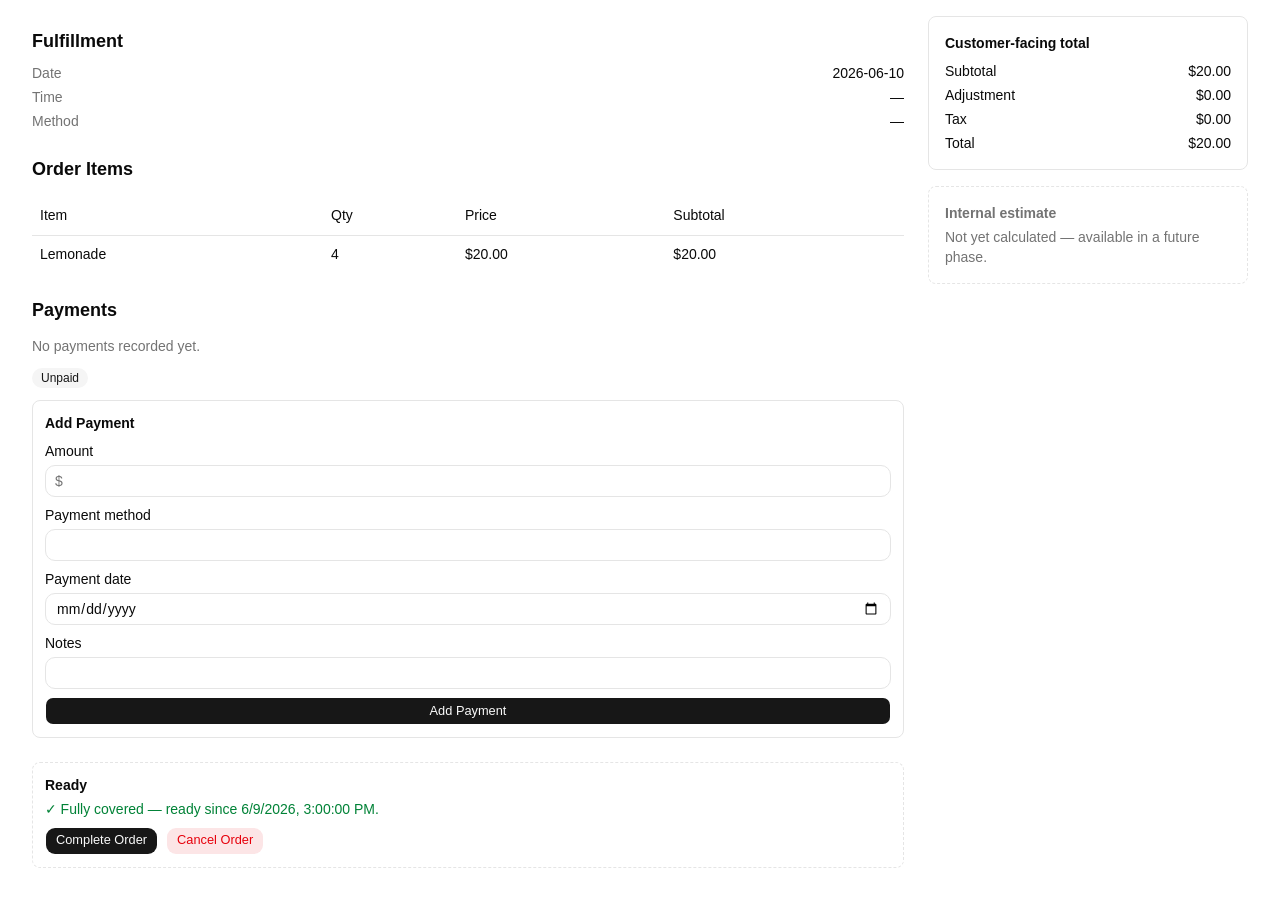
Scenario: Order Details — Complete Order › shows the stale-version panel with Refresh on a version conflict
The image size is (1280, 900).
(page scrolled)
Click the button "Complete Order" at [102, 840], box [45, 826, 158, 854]
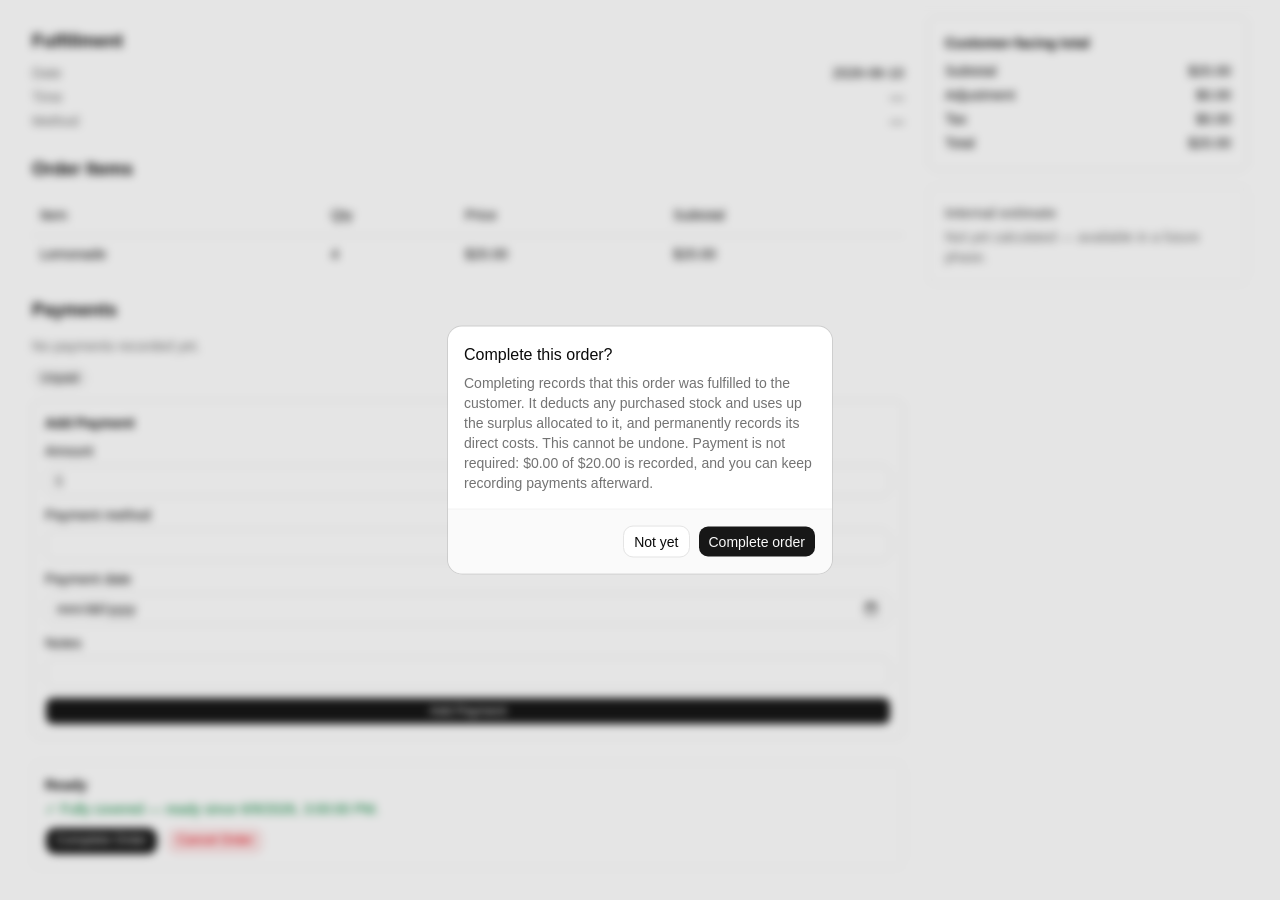
Click the button "Complete order" at [757, 542], box [698, 526, 816, 558]
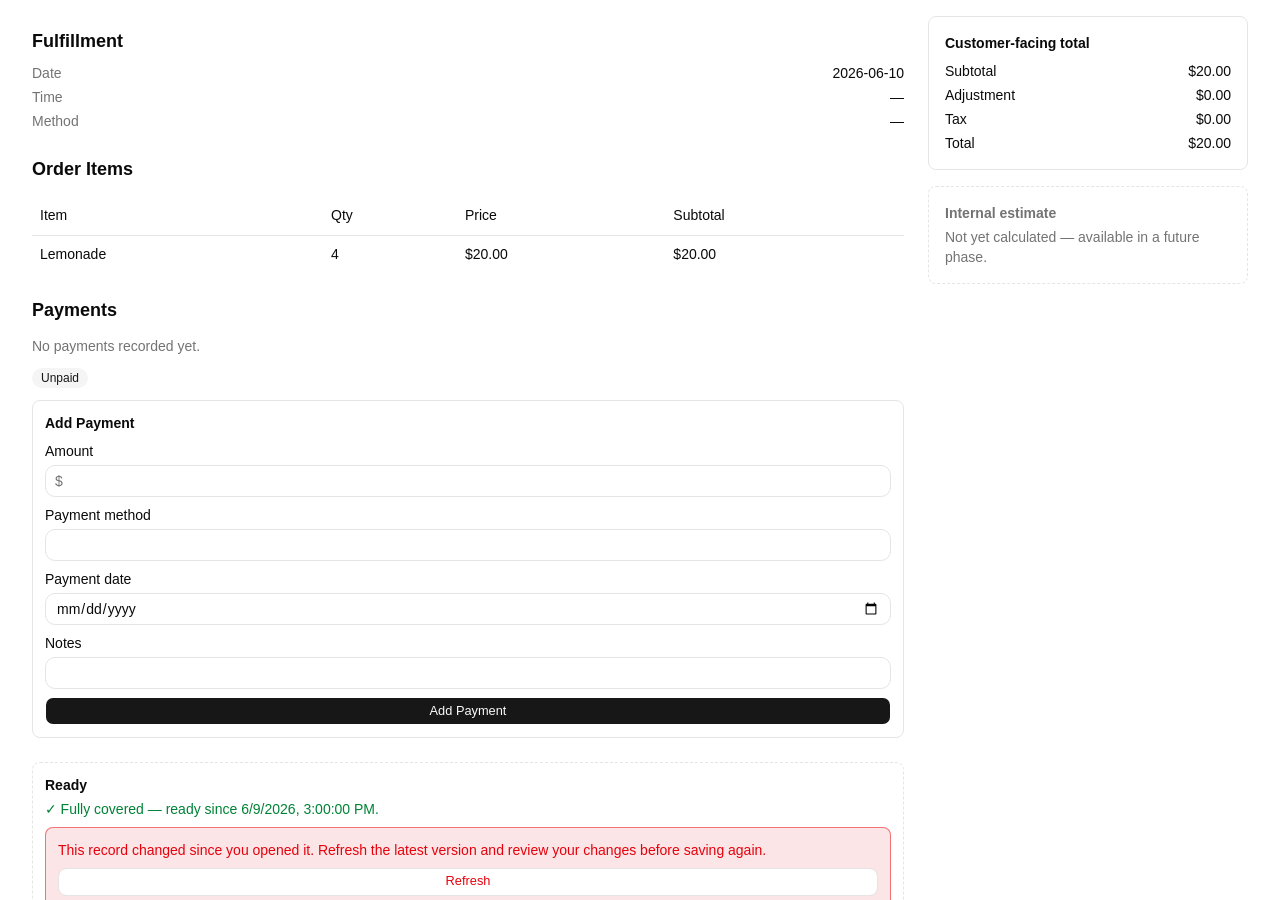
Now the button "Refresh" is shown, box [58, 868, 878, 896]
